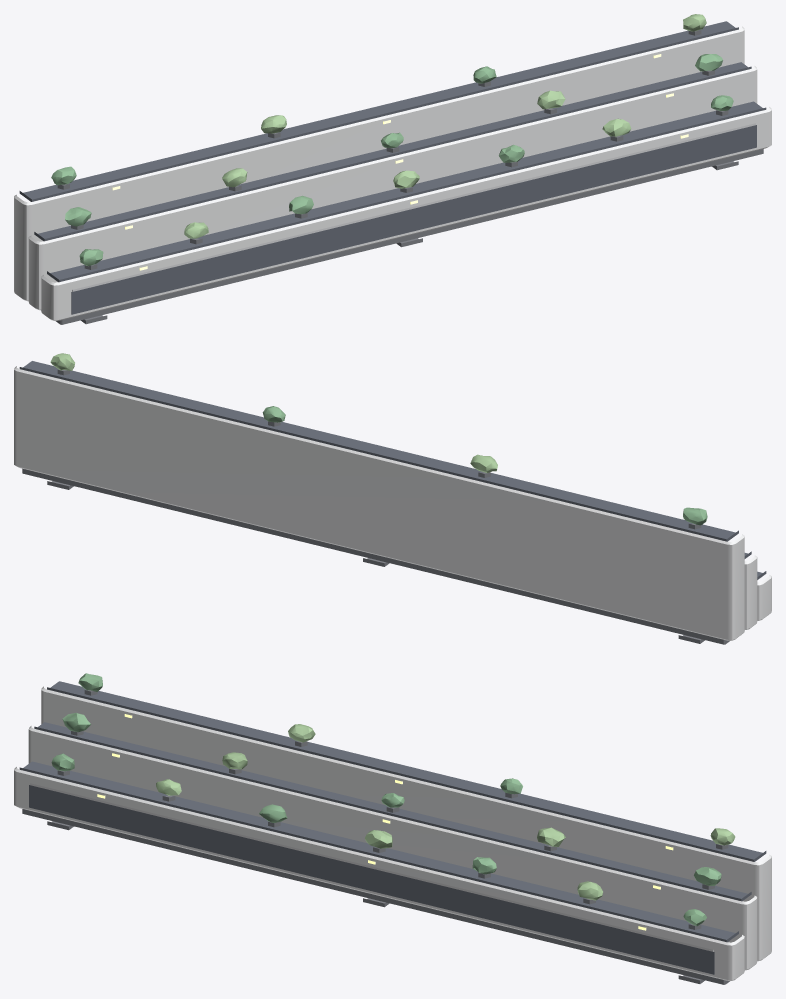
Rendered from hydro_planter_tiered_exterior.glb.
3 views of the same model, one above another, from view 1: azimuth 30°, elevation 25°; view 2: azimuth 150°, elevation 25°; view 3: azimuth 330°, elevation 25° (orthographic).
Parts seen in each view (by area): view 1: Tiers, Tier_Lids, Reservoir, Base_Frame, Foliage, Foliage_Light, Reservoir_Seal, Net_Cup_Clips; view 2: Tiers, Tier_Lids, Base_Frame, Foliage_Light, Foliage; view 3: Tiers, Tier_Lids, Reservoir, Base_Frame, Foliage, Foliage_Light, Reservoir_Seal, Net_Cup_Clips.
Boxes of the visible parts, x1,y1,x2,y2 form: Tiers: (14,26,771,320); Tier_Lids: (19,21,766,282); Reservoir: (71,125,756,314); Base_Frame: (56,149,763,324); Foliage: (51,54,733,266); Foliage_Light: (184,14,706,238); Reservoir_Seal: (72,123,755,291); Net_Cup_Clips: (57,30,728,269); Tiers: (14,366,771,640); Tier_Lids: (19,361,766,579); Base_Frame: (22,468,730,644); Foliage_Light: (50,353,497,473); Foliage: (262,406,707,525); Tiers: (14,686,771,980); Tier_Lids: (19,681,766,942); Reservoir: (29,785,714,974); Base_Frame: (22,809,729,984); Foliage: (51,673,721,926); Foliage_Light: (156,724,735,900); Reservoir_Seal: (30,783,713,951); Net_Cup_Clips: (57,690,728,929).
Size of the model in its own units: 4 by 0.6859 by 0.406.
